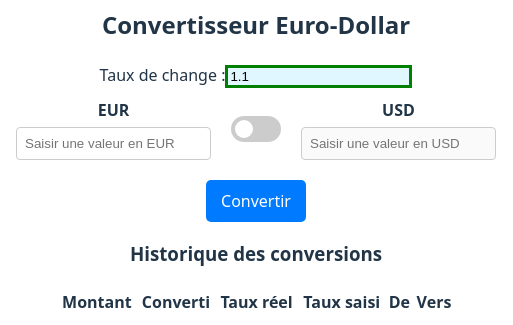
Scenario: CurrencyConverter › calcule correctement la conversion
Type "100" into the number field with placeholder "Saisir une valeur en EUR".
click(114, 143); type("100")  # box [16,127,211,160]
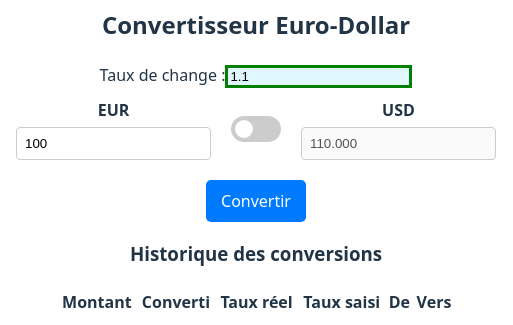
Now the number field with placeholder "Saisir une valeur en USD" below "USD" is not empty, box [301,127,496,160]
